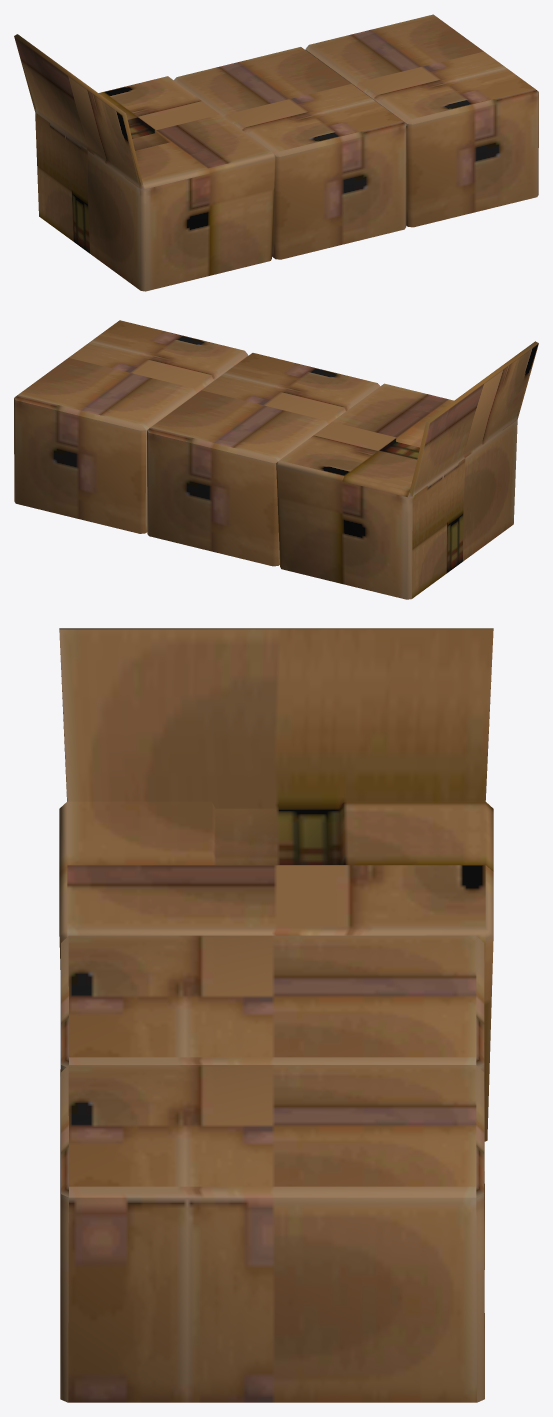
Rendered from int_dmb_bedS.dae.
The picture shows the model from 3 angles, top to bottom: view 1: azimuth 30°, elevation 25°; view 2: azimuth 150°, elevation 25°; view 3: azimuth 270°, elevation 25°; orthographic projection. The views are drawn at different scales.
Parts seen in each view (by area): view 1: int_dmb_bedS; view 2: int_dmb_bedS; view 3: int_dmb_bedS.
Boxes of the visible parts, <box> form: int_dmb_bedS: <box>14,14,538,291</box>; int_dmb_bedS: <box>14,320,538,599</box>; int_dmb_bedS: <box>59,628,493,1402</box>.
Size of the model in its own units: 60.3 by 25.36 by 27.08.
2 materials, 2 textured.
